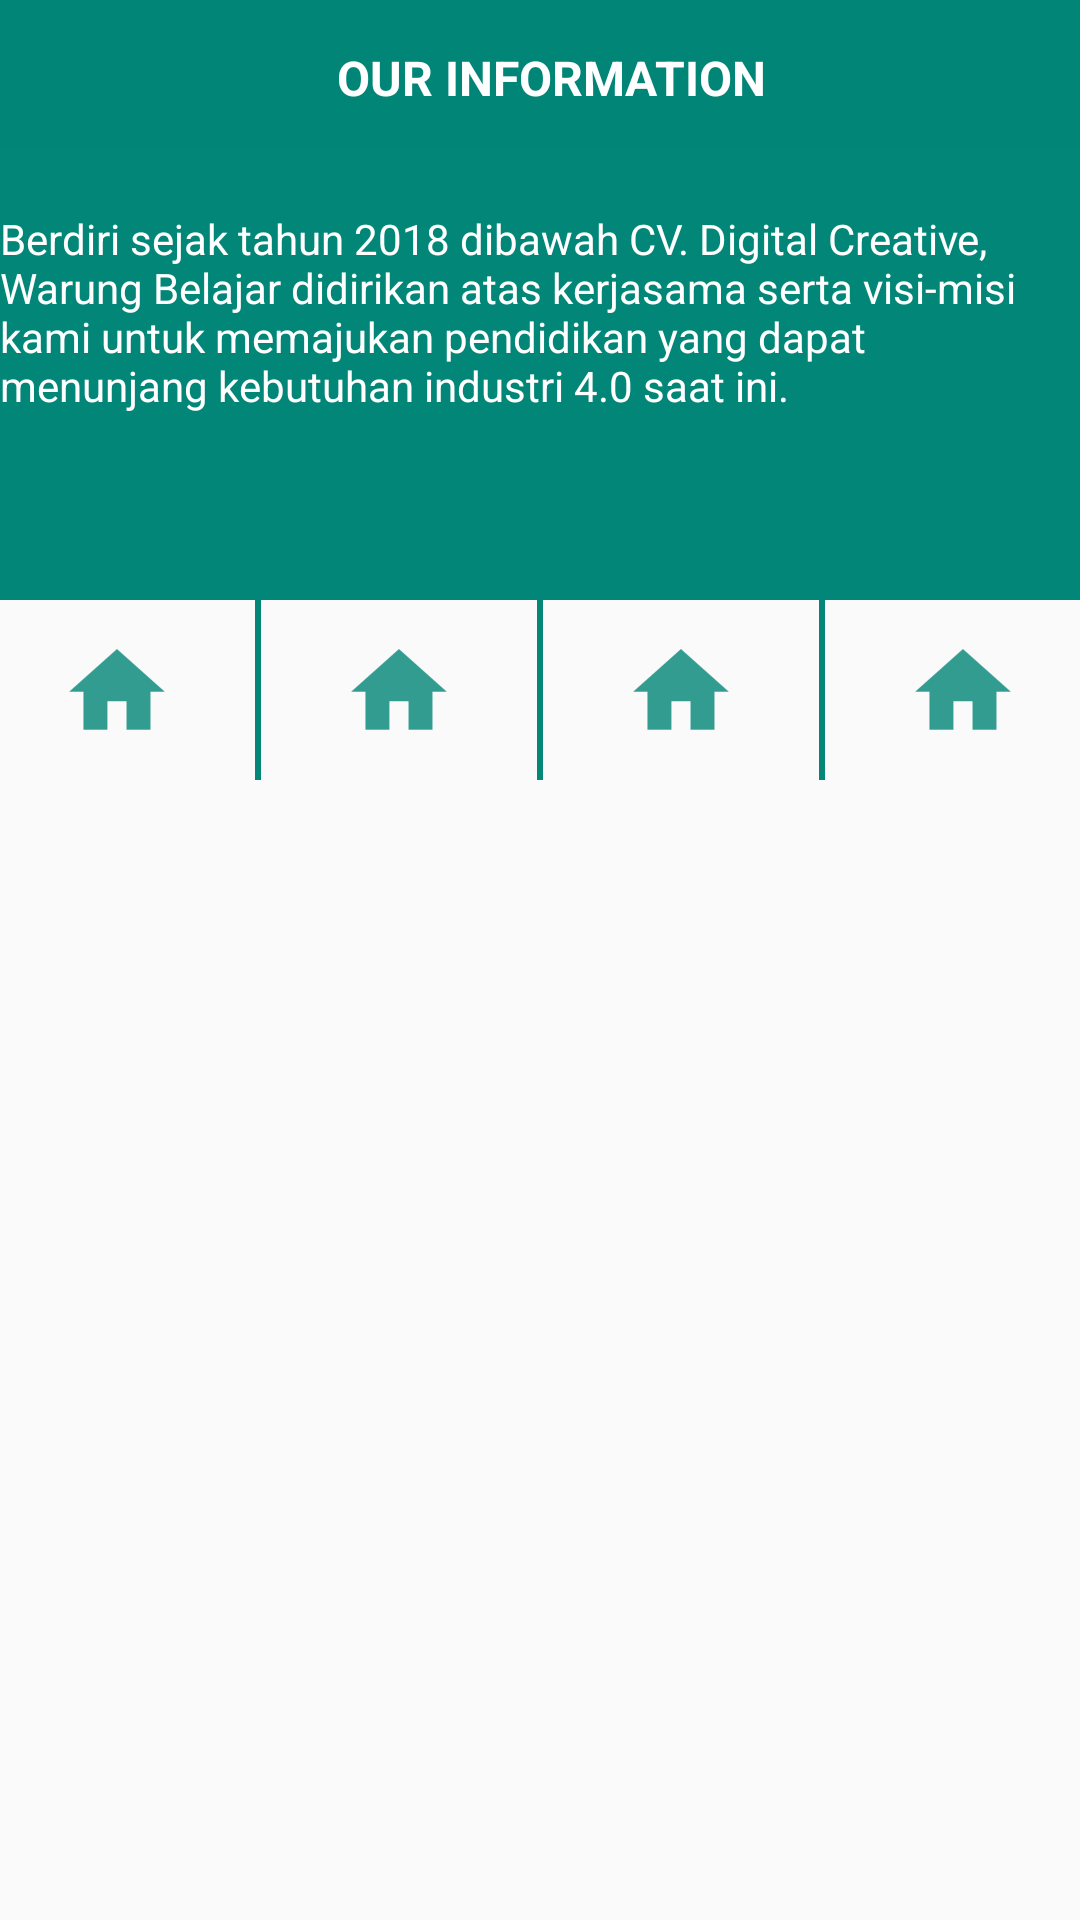

Icons on this 1080 x 1920 Android screen, each with the point to tap as point (x, y):
home: point (117, 689), point (399, 689), point (681, 689), point (963, 689)
